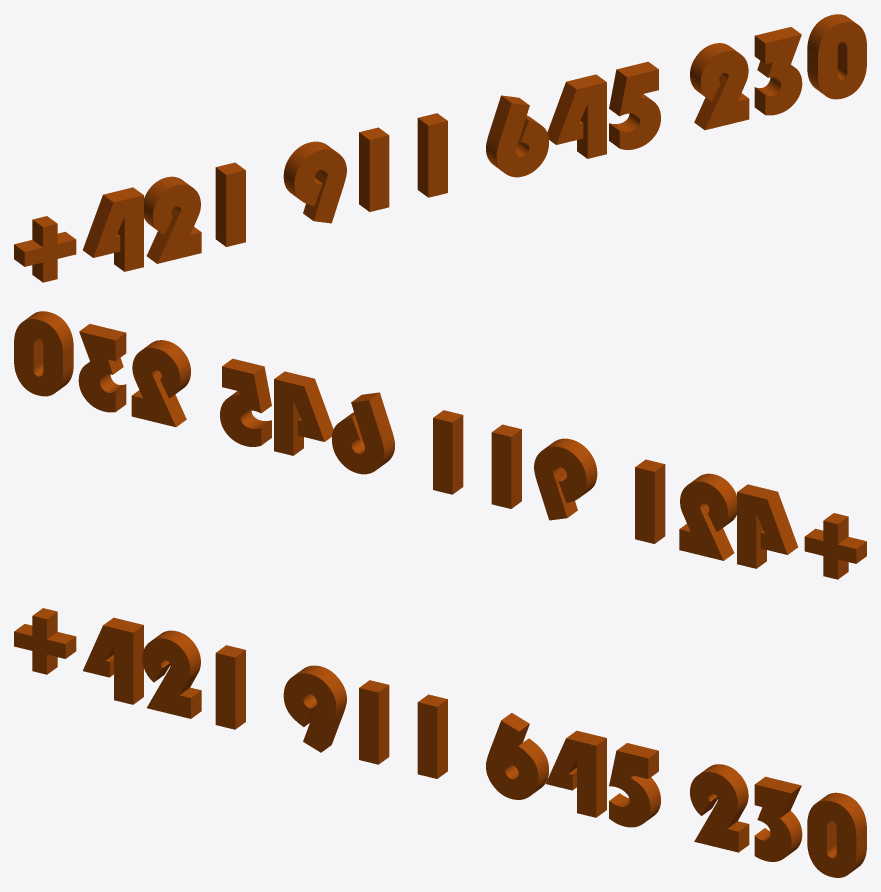
File: Mobile-Number-model.glb
The picture shows the model from 3 angles, top to bottom: view 1: azimuth 30°, elevation 25°; view 2: azimuth 150°, elevation 25°; view 3: azimuth 330°, elevation 25°; orthographic projection.
Visible parts, largest first — view 1: Text; view 2: Text; view 3: Text.
Part boxes in pixels (x1,y1,x2,y2): Text: (14, 14, 866, 282); Text: (14, 311, 866, 579); Text: (14, 608, 866, 877).
Bounding box in the file's own units: 12.76 × 1.11 × 0.28.
